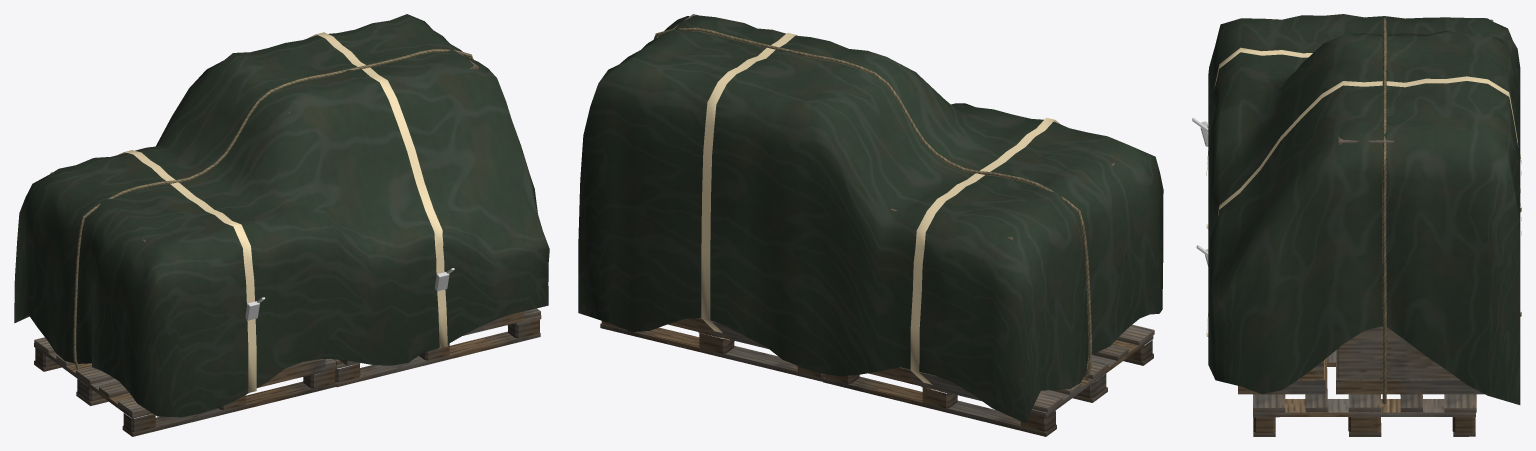
The model's file is tarp_cargo.glb.
3 views of the same model, side by side, from view 1: azimuth 30°, elevation 25°; view 2: azimuth 150°, elevation 25°; view 3: azimuth 270°, elevation 25° (orthographic). The views are drawn at different scales.
Visible parts, largest first — view 1: tarp_cargo; view 2: tarp_cargo; view 3: tarp_cargo.
Part boxes in pixels (x1,y1,x2,y2): tarp_cargo: [14, 14, 549, 436]; tarp_cargo: [578, 14, 1163, 436]; tarp_cargo: [1192, 14, 1521, 436].
Bounding box in the file's own units: 2.41 × 1.46 × 1.48.
Materials: 6 (6 with a texture image).
